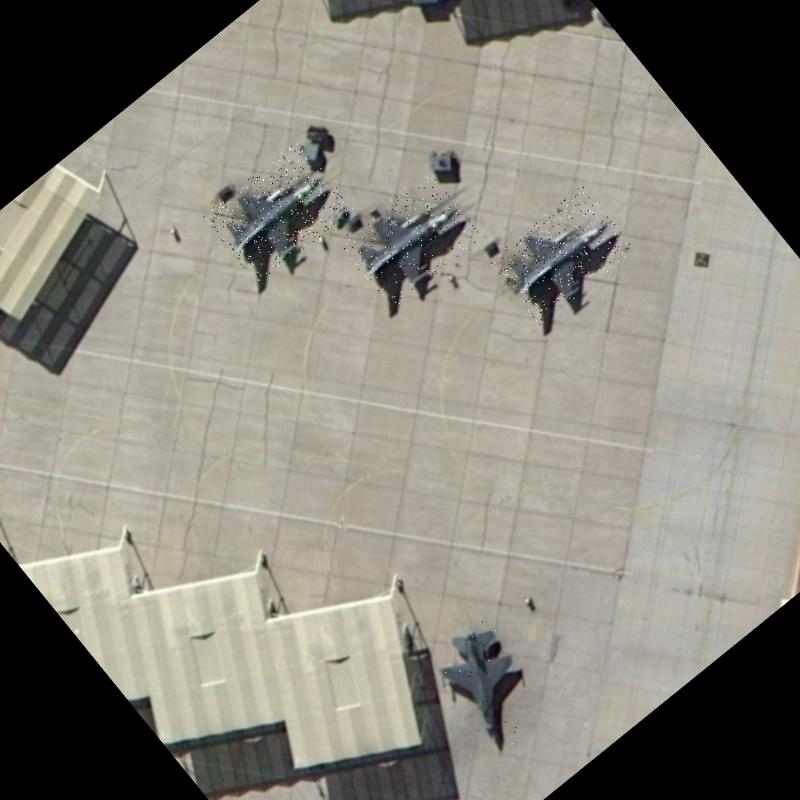A5: (202, 139, 354, 286), (416, 610, 558, 758), (336, 168, 482, 310), (488, 184, 635, 325)
